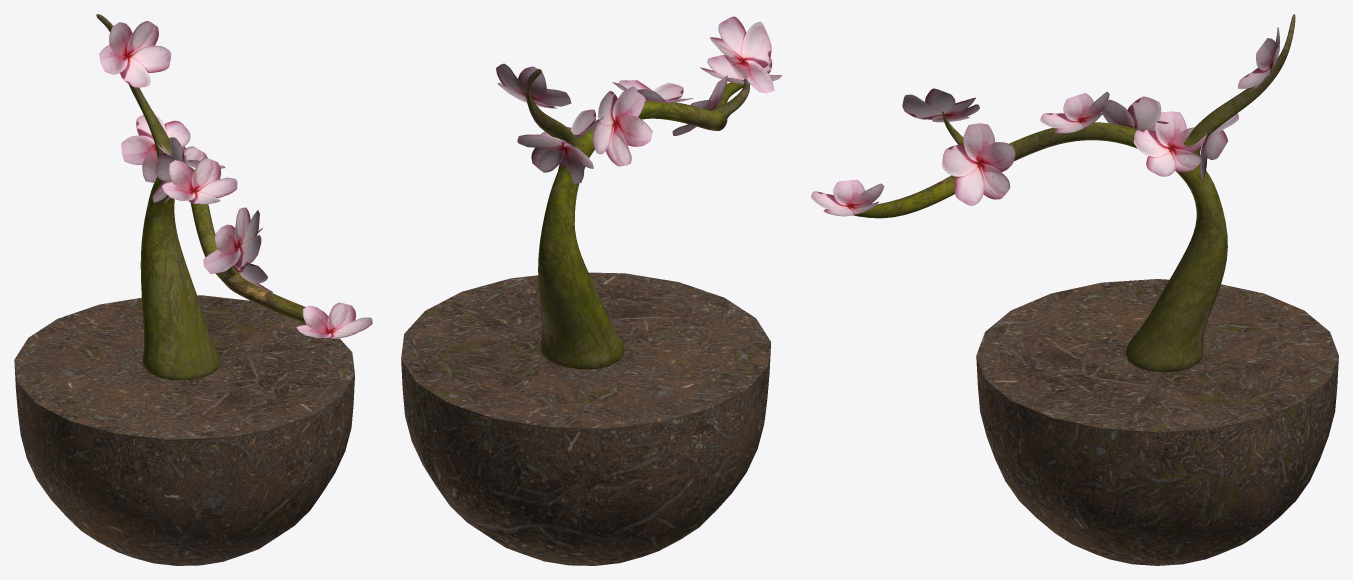
Rendered from cherry-tree.glb.
The picture shows the model from 3 angles, left to right: view 1: azimuth 30°, elevation 25°; view 2: azimuth 150°, elevation 25°; view 3: azimuth 270°, elevation 25°; orthographic projection. The views are drawn at different scales.
Visible parts, largest first — view 1: curve9.002; view 2: curve9.002; view 3: curve9.002.
Boxes of the visible parts, x1=… form: curve9.002: x1=14, y1=14, x2=372, y2=565; curve9.002: x1=401, y1=16, x2=782, y2=565; curve9.002: x1=811, y1=14, x2=1338, y2=565.
Size of the model in its own units: 0.7952 by 1.27 by 1.16.
Materials: 4 (4 with a texture image).
